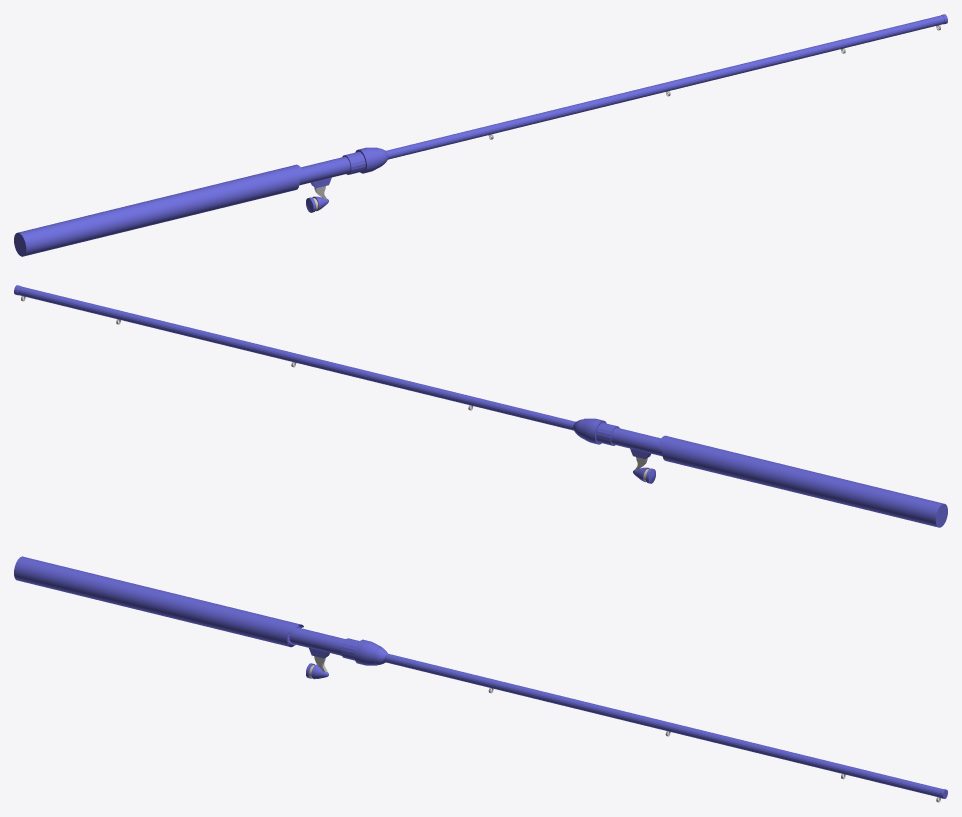
File: Olta_1.fbx
The picture shows the model from 3 angles, top to bottom: view 1: azimuth 30°, elevation 25°; view 2: azimuth 150°, elevation 25°; view 3: azimuth 330°, elevation 25°; orthographic projection.
Parts seen in each view (by area): view 1: Cylinder002, Cylinder006, Cylinder004; view 2: Cylinder002, Cylinder006, Cylinder004; view 3: Cylinder002, Cylinder006, Cylinder004.
Boxes of the visible parts, x1,y1,x2,y2 form: Cylinder002: (27,169,284,253); Cylinder006: (379,14,947,164); Cylinder004: (299,151,365,185); Cylinder002: (677,440,934,524); Cylinder006: (14,285,582,435); Cylinder004: (596,422,662,456); Cylinder002: (23,558,280,643); Cylinder006: (374,647,947,798); Cylinder004: (289,627,359,660).
Size of the model in its own units: 210 by 10.76 by 4.81.
